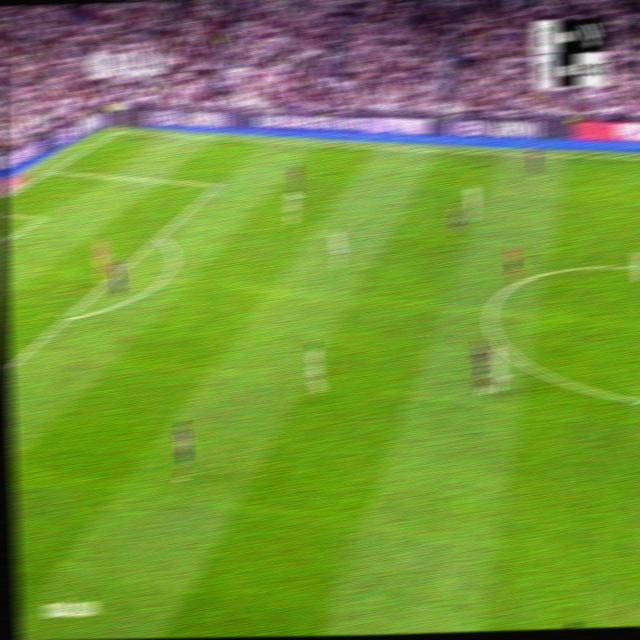bigarea_top_inner: (211, 178, 222, 191)
bottom_arc_area_intersection: (60, 308, 75, 326)
corner: (113, 127, 124, 134)
halfcircle_bottom: (632, 382, 640, 415)
halfcircle_top: (631, 251, 640, 279)
midline_top_intersection: (635, 150, 640, 165)
smallarea_top_inner: (34, 212, 43, 223)
top_arc_area_intersection: (153, 229, 164, 243)
